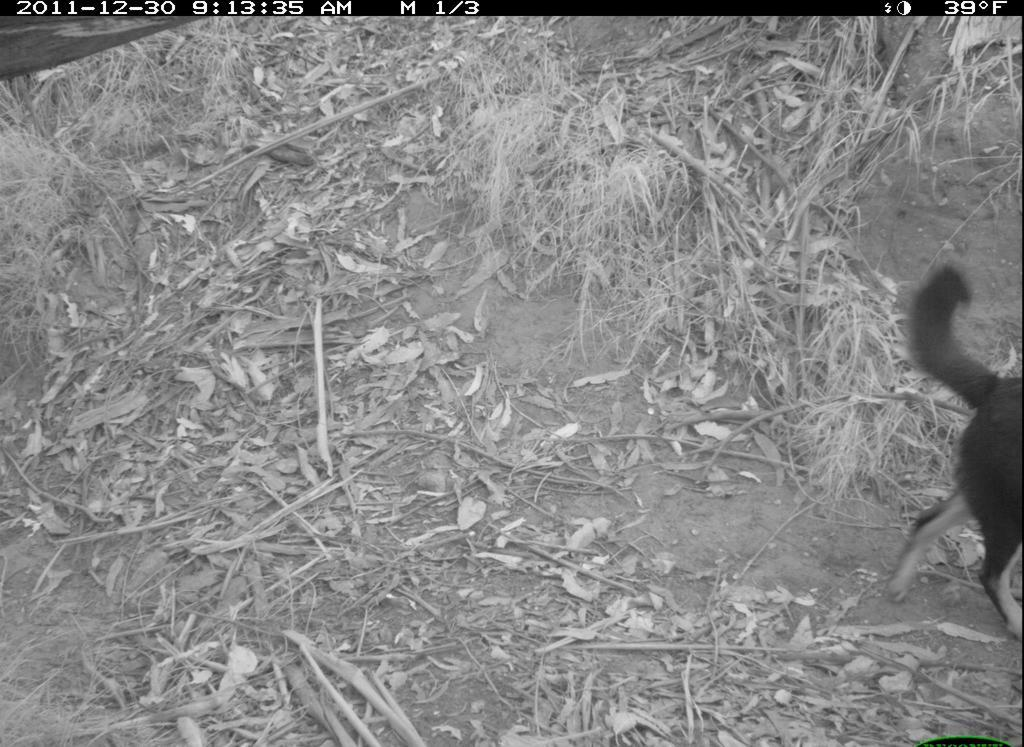dog: (864, 257, 1024, 648)
